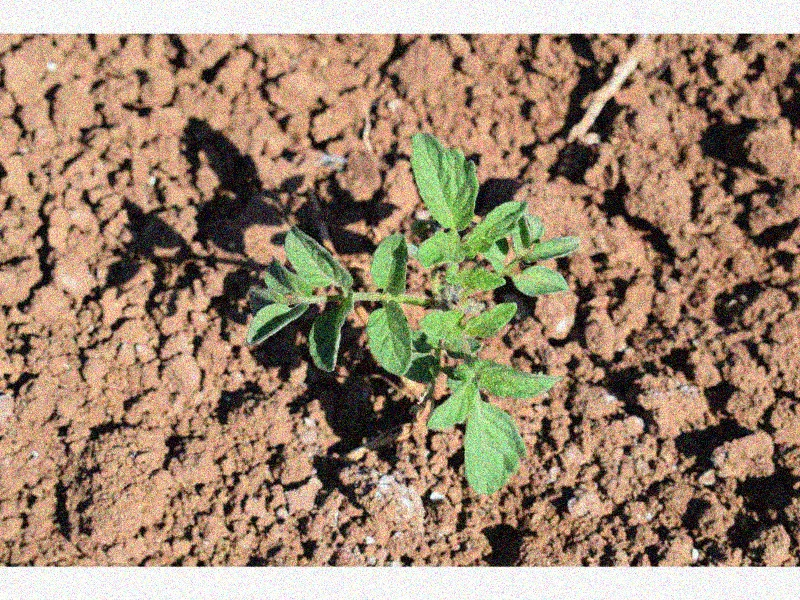tomato: (241, 132, 578, 492)
